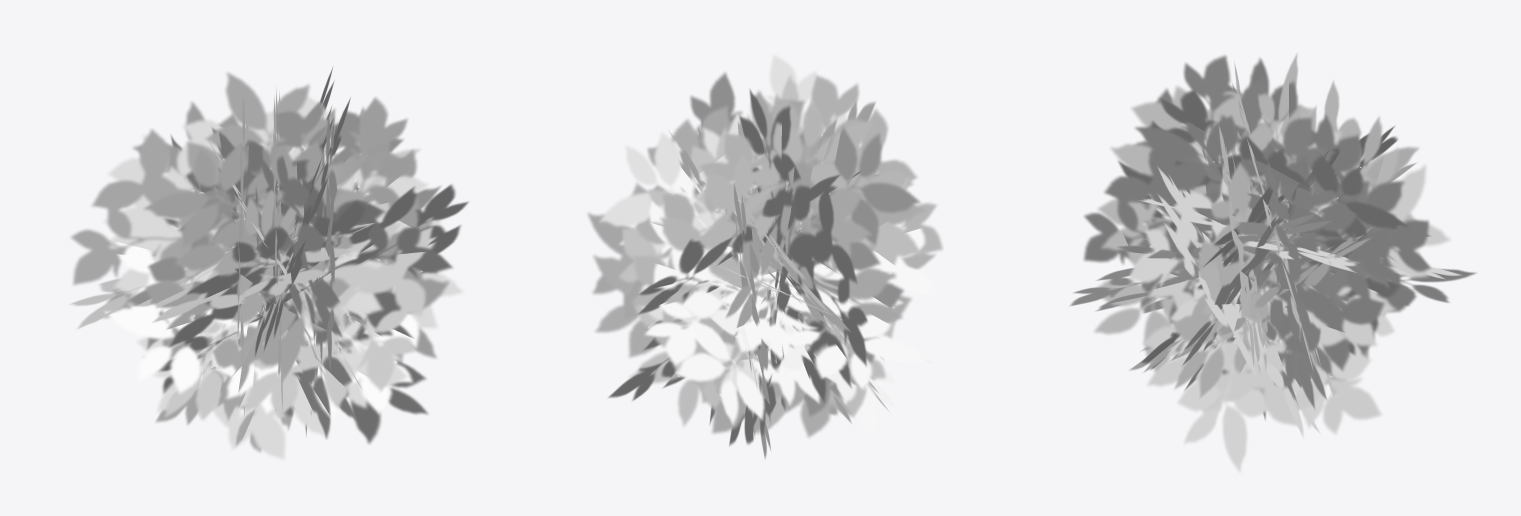
The model's file is bush_stylized_2.glb.
3 renders of one model, left to right at view 1: azimuth 30°, elevation 25°; view 2: azimuth 150°, elevation 25°; view 3: azimuth 270°, elevation 25°, orthographic. The views are drawn at different scales.
Visible parts, largest first — view 1: Plane; view 2: Plane; view 3: Plane.
Boxes of the visible parts, box(x1,y1,x2,y2) form: Plane: box(69, 67, 468, 460); Plane: box(587, 54, 943, 459); Plane: box(1070, 53, 1476, 472).
Bounding box in the file's own units: 2.84 × 2.91 × 3.01.
1 material, 1 textured.
